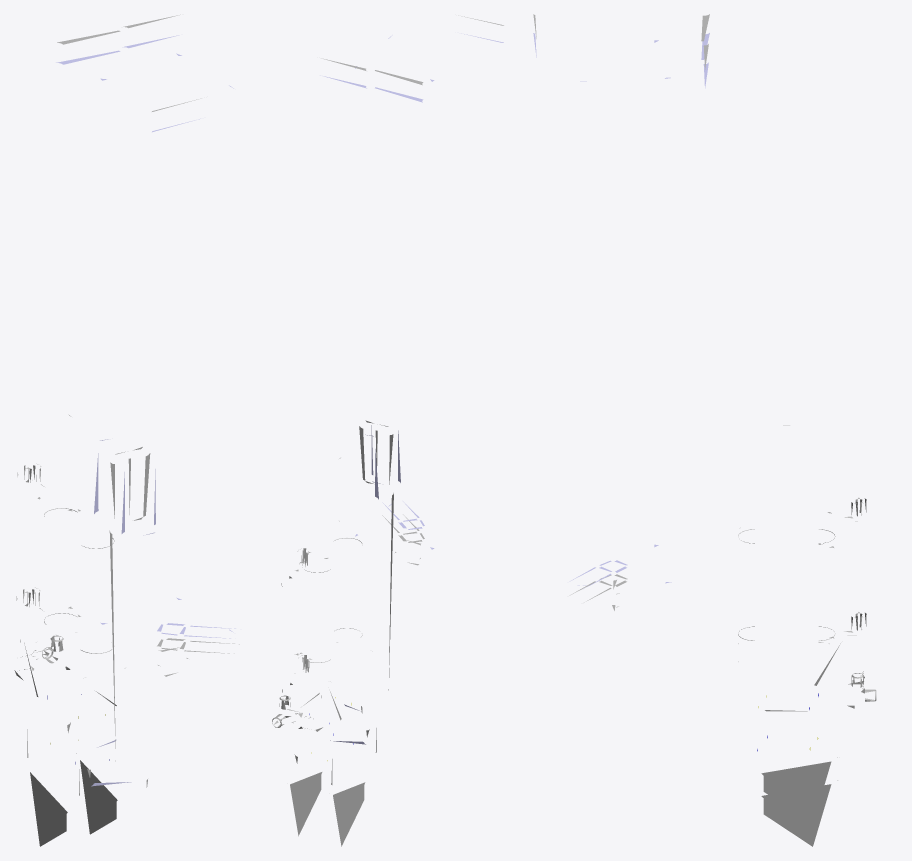
The picture shows the model from 3 angles, left to right: view 1: azimuth 30°, elevation 25°; view 2: azimuth 150°, elevation 25°; view 3: azimuth 270°, elevation 25°; orthographic projection. The views are drawn at different scales.
Visible parts, largest first — view 1: F19721000063102000154_001_zb_ub_verriegelung_54_fa (×2); view 2: F19721000063102000154_001_zb_ub_verriegelung_54_fa (×2); view 3: F19721000063102000154_001_zb_ub_verriegelung_54_fa.
Boxes of the visible parts, <box> form: F19721000063102000154_001_zb_ub_verriegelung_54_fa (×2): <box>14,14,239,846</box>; F19721000063102000154_001_zb_ub_verriegelung_54_fa (×2): <box>272,15,503,846</box>; F19721000063102000154_001_zb_ub_verriegelung_54_fa: <box>533,14,876,846</box>.
Bounding box in the file's own units: 131 × 354 × 850.
